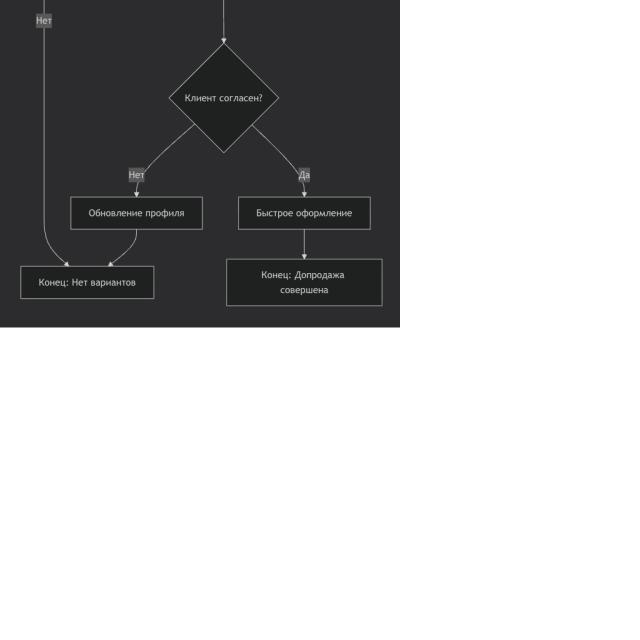arrow: (133, 123, 196, 196), (251, 125, 308, 197), (106, 229, 139, 266), (301, 230, 308, 260)
diamond: (170, 44, 278, 151)
rectangle: (227, 259, 382, 306), (21, 266, 154, 299), (71, 196, 202, 229), (239, 197, 370, 229)
text_region: (36, 16, 52, 26), (129, 170, 144, 180), (299, 168, 310, 180)
